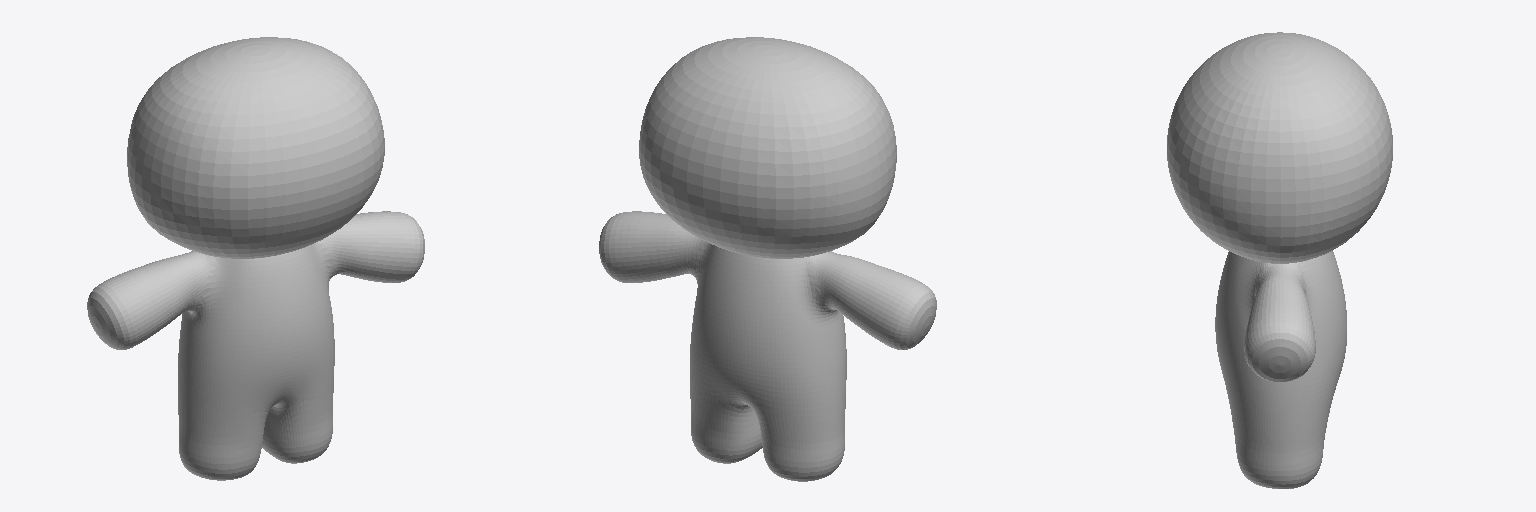
The model's file is player_character.obj.
3 views of the same model, side by side, from view 1: azimuth 30°, elevation 25°; view 2: azimuth 150°, elevation 25°; view 3: azimuth 270°, elevation 25° (orthographic).
Visible parts, largest first — view 1: good_body.002; view 2: good_body.002; view 3: good_body.002.
Boxes of the visible parts, x1=… form: good_body.002: x1=87, y1=37, x2=424, y2=480; good_body.002: x1=599, y1=37, x2=936, y2=481; good_body.002: x1=1167, y1=32, x2=1392, y2=488.
Size of the model in its own units: 2.71 by 3.31 by 1.64.